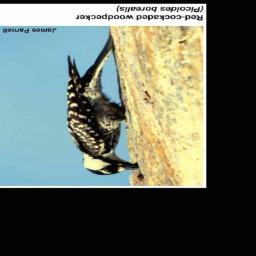Woodpecker: (61, 34, 143, 176)
